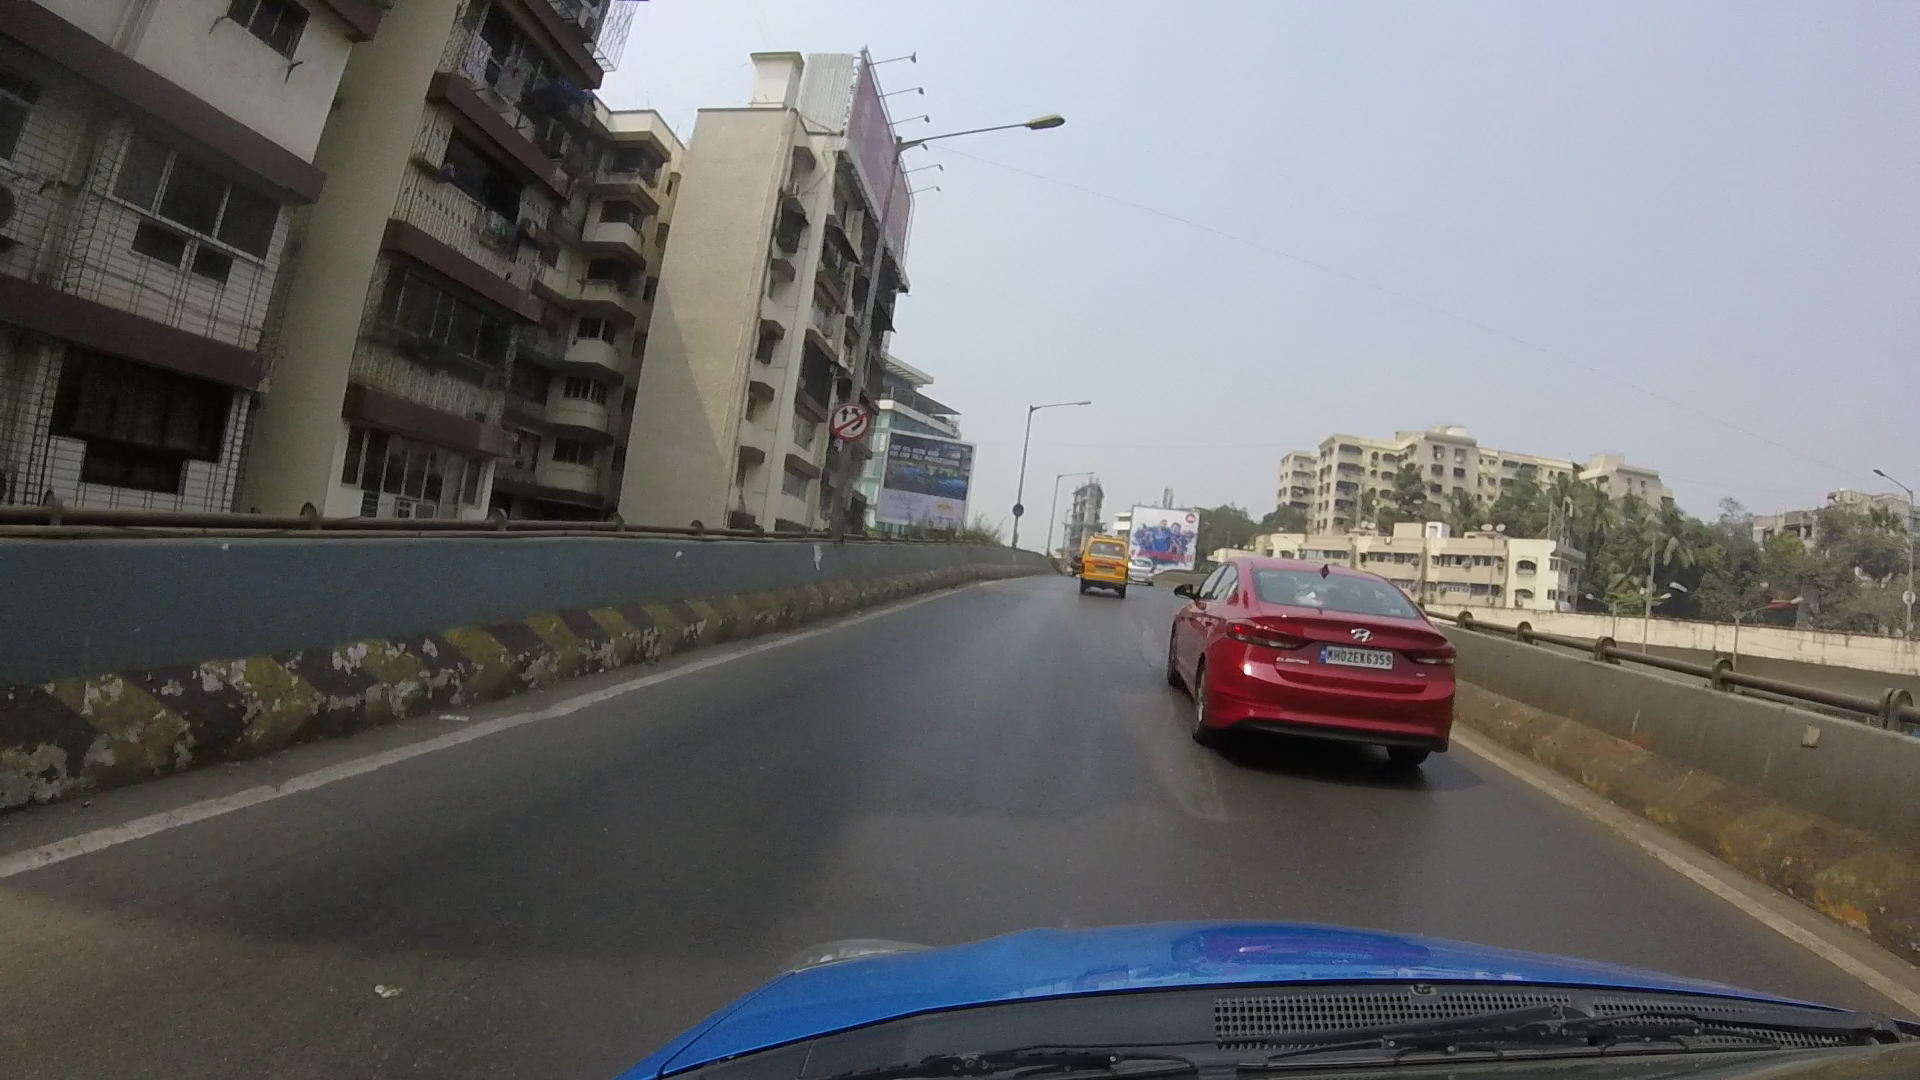car: (1160, 556, 1476, 752), (1081, 535, 1126, 595), (1126, 556, 1155, 587)
